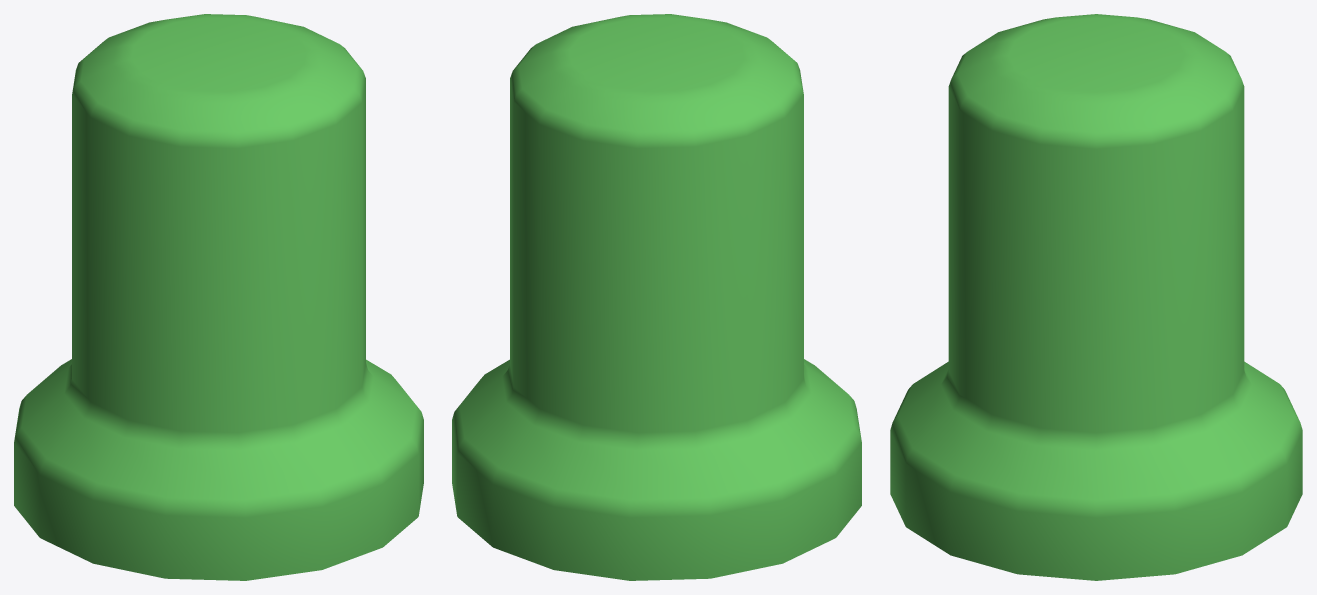
File: pawn_green.fbx
3 renders of one model, left to right at view 1: azimuth 30°, elevation 25°; view 2: azimuth 150°, elevation 25°; view 3: azimuth 270°, elevation 25°, orthographic.
Visible parts, largest first — view 1: Pawn_Green; view 2: Pawn_Green; view 3: Pawn_Green.
Boxes of the visible parts, bbox=[...] form: Pawn_Green: bbox=[14, 14, 423, 580]; Pawn_Green: bbox=[452, 14, 861, 580]; Pawn_Green: bbox=[890, 14, 1302, 580].
Bounding box in the file's own units: 6.49 × 7.61 × 6.49.
1 material, 1 textured.
